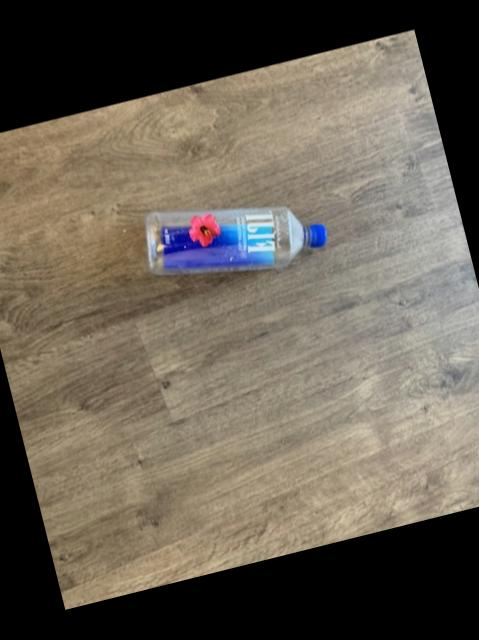plastic: (146, 208, 327, 276)
